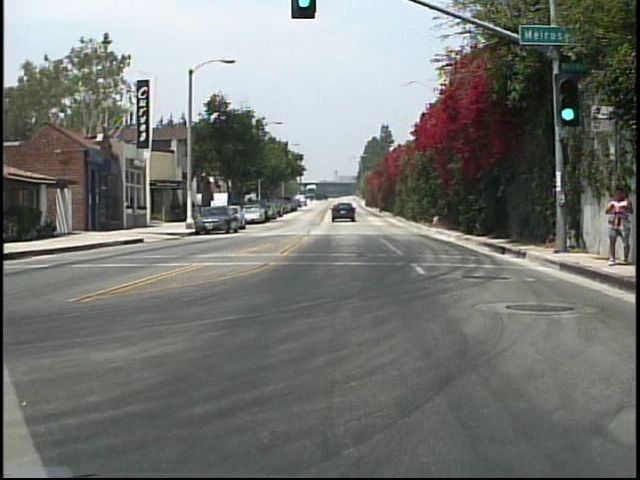person: (603, 185, 634, 267)
